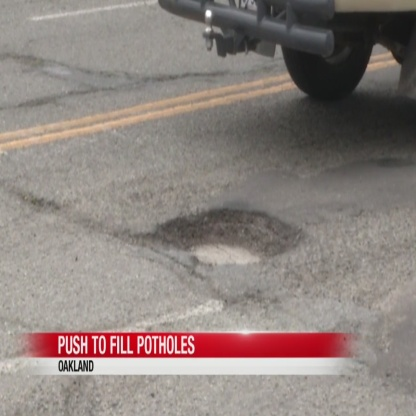pothole: (129, 194, 316, 285)
